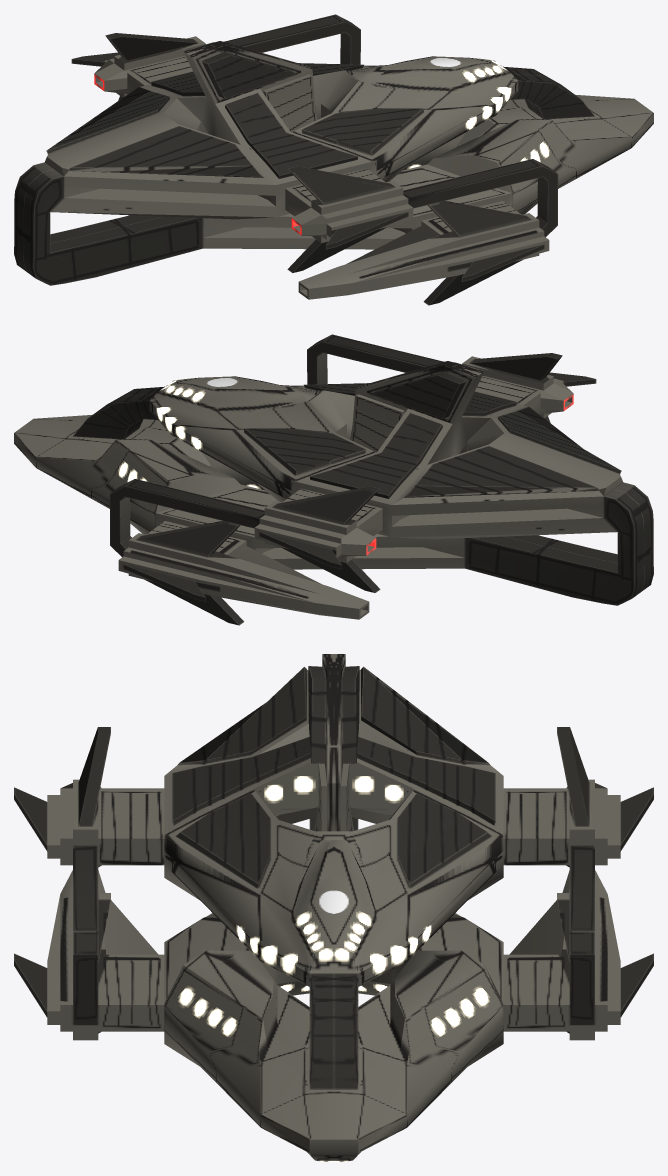
File: Victoria.fbx
3 views of the same model, one above another, from view 1: azimuth 30°, elevation 25°; view 2: azimuth 150°, elevation 25°; view 3: azimuth 270°, elevation 25° (orthographic). The views are drawn at different scales.
Parts seen in each view (by area): view 1: Cube_2; view 2: Cube_2; view 3: Cube_2.
Part boxes in pixels (x1=…): Cube_2: x1=14, y1=14, x2=653, y2=305; Cube_2: x1=14, y1=334, x2=653, y2=625; Cube_2: x1=14, y1=654, x2=653, y2=1161.
Size of the model in its own units: 1174 by 400 by 832.
1 material, 1 textured.
